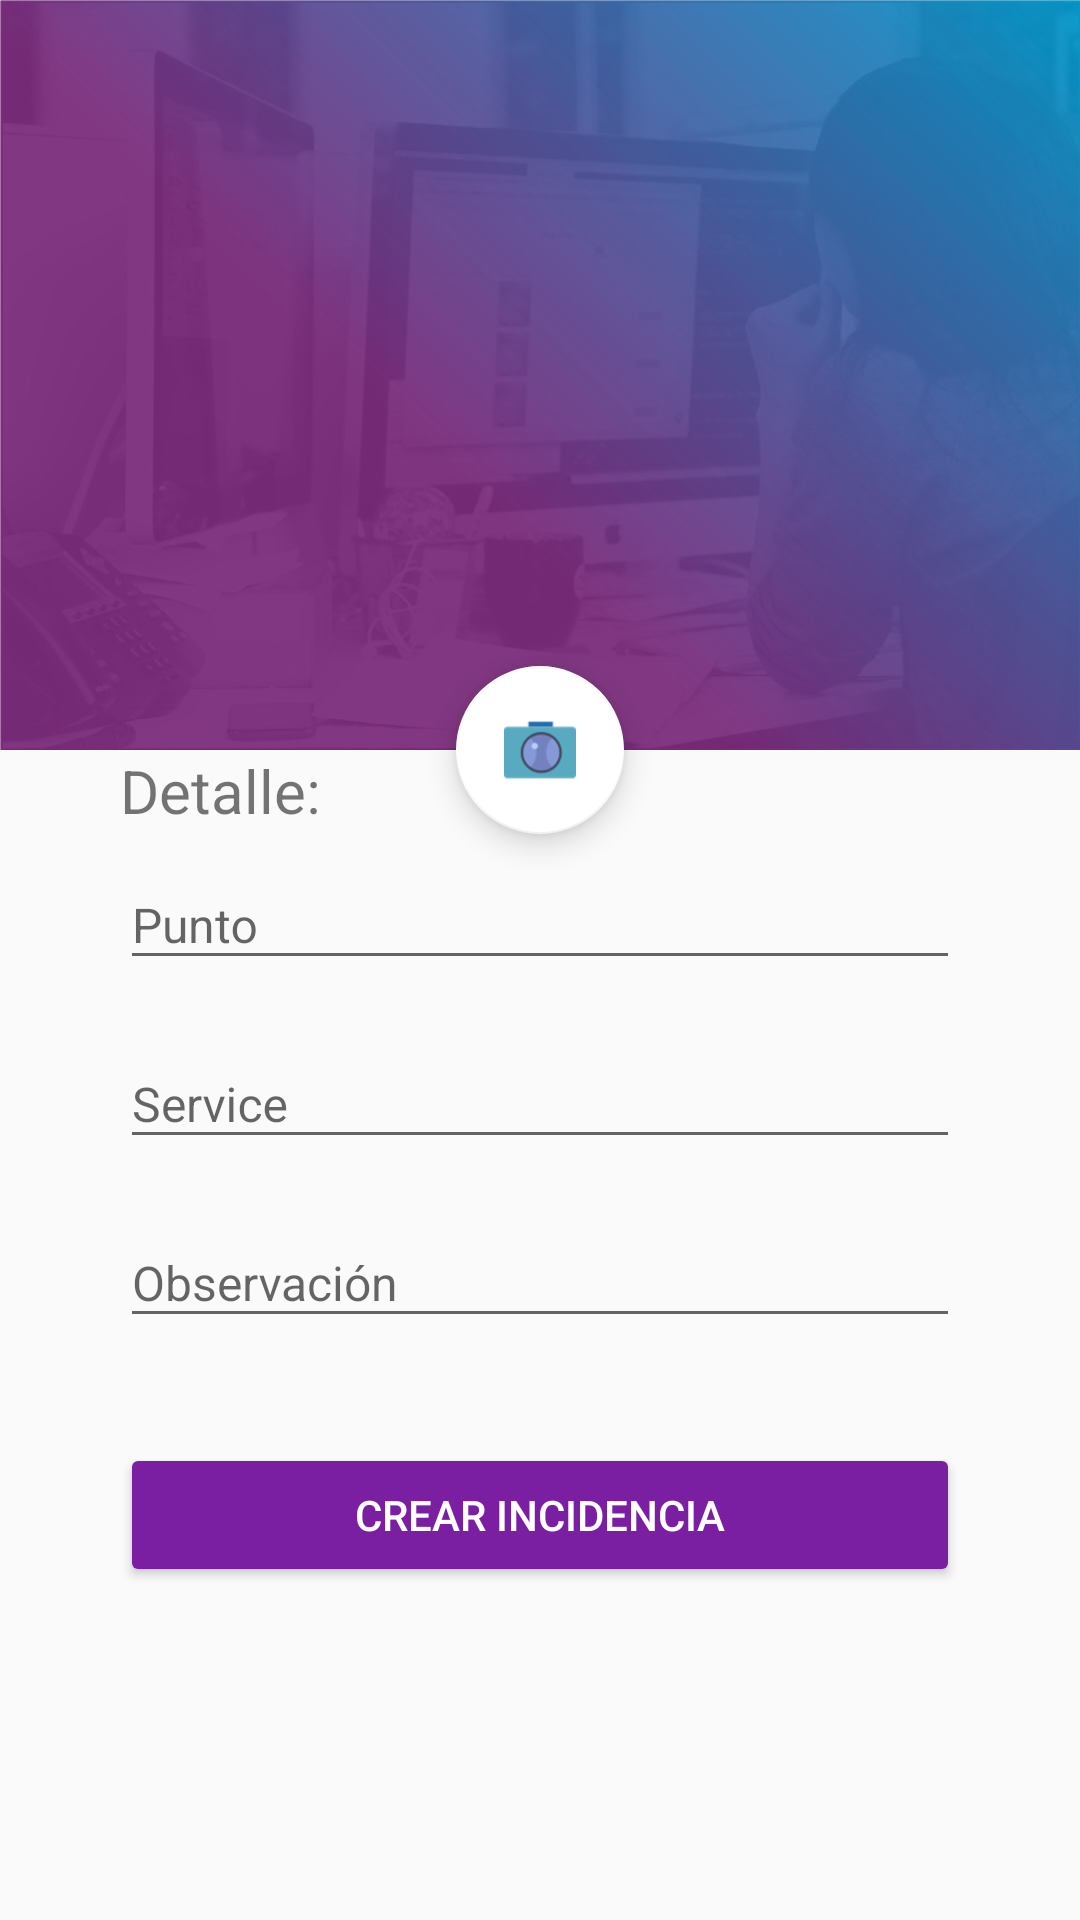

Named icons in this screenshot (1080*1920) and their centers, (x=x, y=y):
camera: (x=540, y=750)
